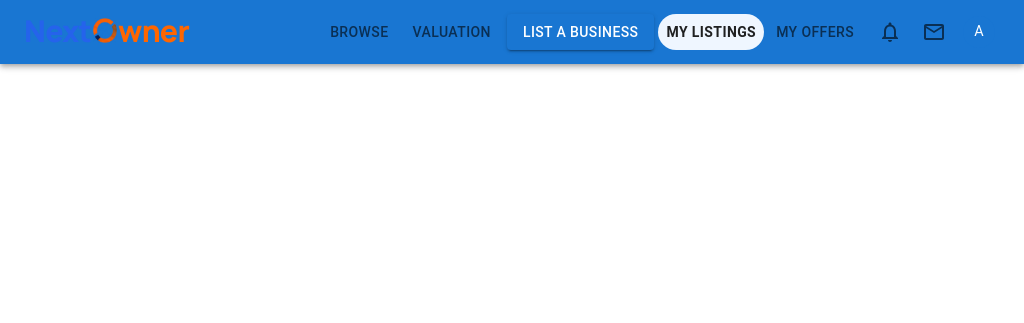
it: NavBar › M10: shows Curation queue and Verifications to an admin
Click the button named "account menu".
click(979, 32)  # box [958,11,1000,53]
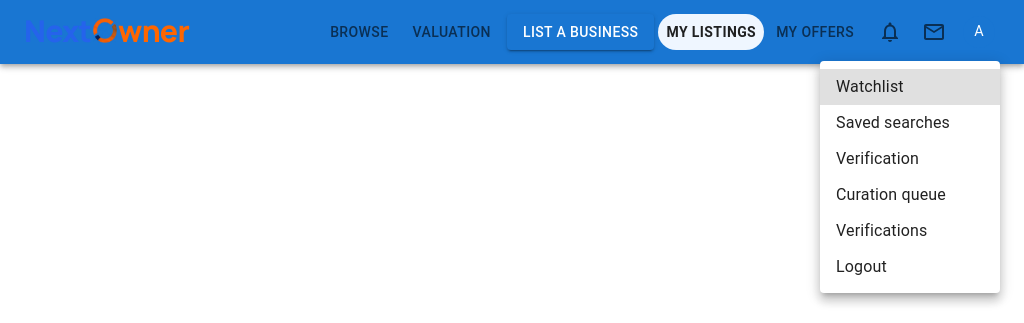
expect the menu item "Curation queue" is shown: met, box [836,185,946,204]
expect the menu item "Verifications" is shown: met, box [836,221,928,240]
expect the menu item "Verification" is shown: met, box [836,149,919,168]
